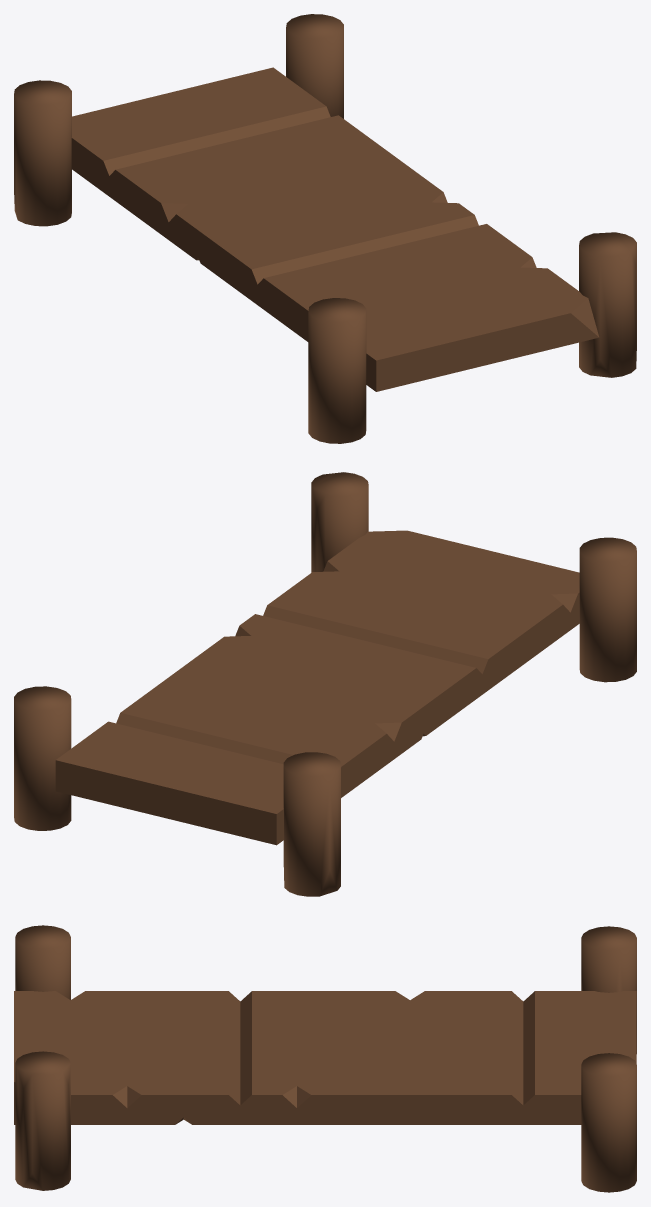
The model's file is Bridge.fbx.
3 renders of one model, top to bottom at view 1: azimuth 30°, elevation 25°; view 2: azimuth 150°, elevation 25°; view 3: azimuth 270°, elevation 25°, orthographic. The views are drawn at different scales.
Parts seen in each view (by area): view 1: Bridge, BridgeHolder.001, BridgeHolder.003, BridgeHolder, BridgeHolder.002; view 2: Bridge, BridgeHolder.001, BridgeHolder.003, BridgeHolder.002, BridgeHolder; view 3: Bridge, BridgeHolder.002, BridgeHolder, BridgeHolder.001, BridgeHolder.003.
Boxes of the visible parts, left/top/right/bottom form: Bridge: left=71, top=67, right=599, bottom=391; BridgeHolder.001: left=308, top=298, right=366, bottom=443; BridgeHolder.003: left=14, top=80, right=71, bottom=226; BridgeHolder: left=579, top=232, right=636, bottom=377; BridgeHolder.002: left=286, top=14, right=343, bottom=118; Bridge: left=55, top=530, right=579, bottom=845; BridgeHolder.001: left=579, top=537, right=636, bottom=682; BridgeHolder.003: left=283, top=752, right=340, bottom=896; BridgeHolder.002: left=14, top=686, right=71, bottom=830; BridgeHolder: left=311, top=472, right=368, bottom=572; Bridge: left=14, top=991, right=636, bottom=1124; BridgeHolder.002: left=581, top=1053, right=636, bottom=1192; BridgeHolder: left=15, top=1051, right=70, bottom=1190; BridgeHolder.001: left=15, top=925, right=70, bottom=999; BridgeHolder.003: left=581, top=926, right=636, bottom=1053.
Bounding box in the file's own units: 449 × 161 × 782.
